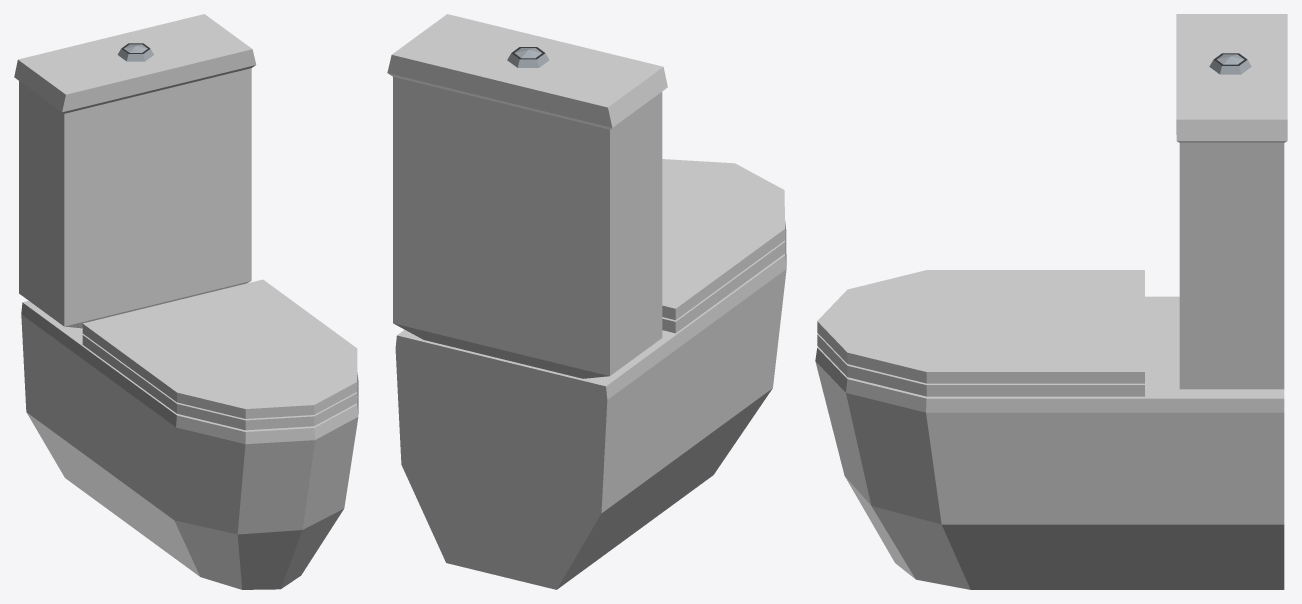
Rendered from SM_Prop_Toilet_02.fbx.
3 views of the same model, side by side, from view 1: azimuth 30°, elevation 25°; view 2: azimuth 150°, elevation 25°; view 3: azimuth 270°, elevation 25° (orthographic). The views are drawn at different scales.
Parts seen in each view (by area): view 1: SM_Prop_Toilet_02, SM_Prop_Toilet_02_Lid, SM_Prop_Toilet_02_Seat; view 2: SM_Prop_Toilet_02, SM_Prop_Toilet_02_Lid, SM_Prop_Toilet_02_Seat; view 3: SM_Prop_Toilet_02, SM_Prop_Toilet_02_Lid, SM_Prop_Toilet_02_Seat.
Part boxes in pixels (left/top/right/bottom): SM_Prop_Toilet_02: left=14, top=14, right=358, bottom=589; SM_Prop_Toilet_02_Lid: left=82, top=279, right=357, bottom=418; SM_Prop_Toilet_02_Seat: left=82, top=334, right=357, bottom=430; SM_Prop_Toilet_02: left=387, top=14, right=786, bottom=589; SM_Prop_Toilet_02_Lid: left=662, top=159, right=784, bottom=320; SM_Prop_Toilet_02_Seat: left=662, top=240, right=784, bottom=333; SM_Prop_Toilet_02: left=815, top=14, right=1287, bottom=589; SM_Prop_Toilet_02_Lid: left=817, top=270, right=1144, bottom=383; SM_Prop_Toilet_02_Seat: left=817, top=334, right=1144, bottom=396.
Bounding box in the file's own units: 46.34 × 99.72 × 84.29.
